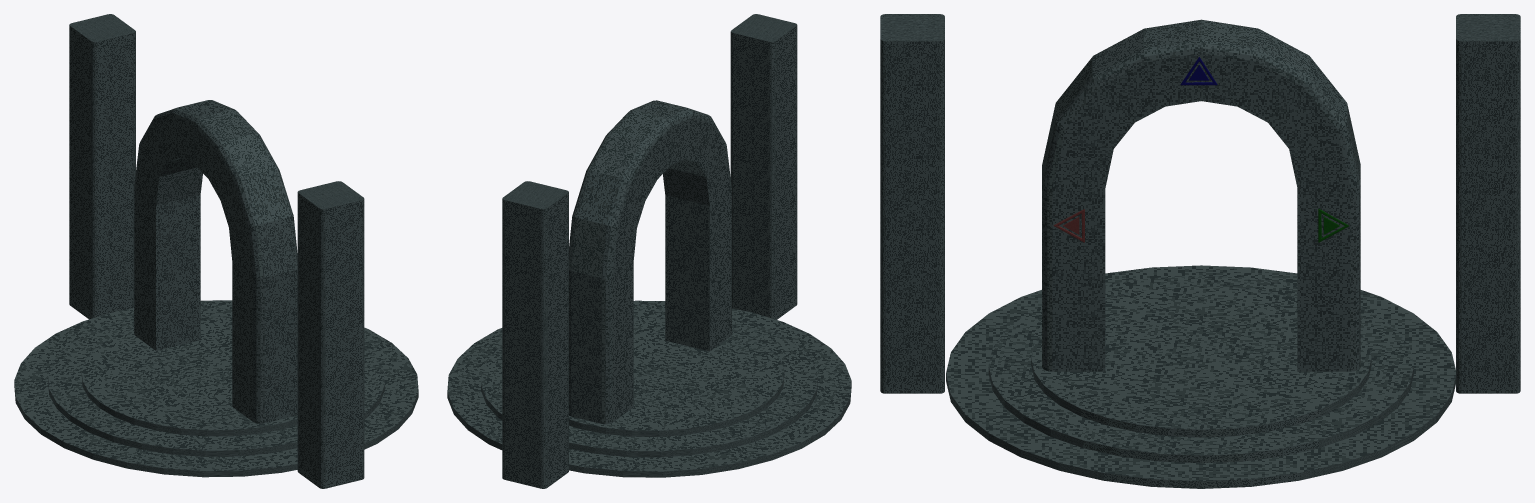
Rendered from portal.glb.
3 renders of one model, left to right at view 1: azimuth 30°, elevation 25°; view 2: azimuth 150°, elevation 25°; view 3: azimuth 270°, elevation 25°, orthographic. The views are drawn at different scales.
Parts seen in each view (by area): view 1: Cube, Cube.007, Cube.008, Cylinder.002, Cylinder, Cylinder.001; view 2: Cube, Cube.008, Cube.007, Cylinder.002, Cylinder, Cylinder.001; view 3: Cube, Cylinder.002, Cylinder, Cube.007, Cube.008, Cylinder.001.
Part boxes in pixels (left/top/right/bottom): Cube: left=134, top=100, right=297, bottom=423; Cube.007: left=297, top=181, right=364, bottom=488; Cube.008: left=69, top=14, right=135, bottom=319; Cylinder.002: left=81, top=316, right=297, bottom=436; Cylinder: left=14, top=300, right=418, bottom=477; Cylinder.001: left=48, top=308, right=384, bottom=456; Cube: left=569, top=100, right=731, bottom=424; Cube.008: left=502, top=181, right=568, bottom=488; Cube.007: left=730, top=14, right=797, bottom=319; Cylinder.002: left=569, top=317, right=784, bottom=436; Cylinder: left=447, top=300, right=851, bottom=477; Cylinder.001: left=481, top=309, right=817, bottom=457; Cube: left=1042, top=19, right=1360, bottom=371; Cylinder.002: left=1031, top=286, right=1371, bottom=437; Cylinder: left=946, top=265, right=1455, bottom=488; Cube.007: left=880, top=14, right=944, bottom=393; Cube.008: left=1456, top=14, right=1520, bottom=393; Cylinder.001: left=988, top=275, right=1413, bottom=463.
Bounding box in the file's own units: 12 × 9.16 × 15.04.
Materials: 12 (12 with a texture image).
